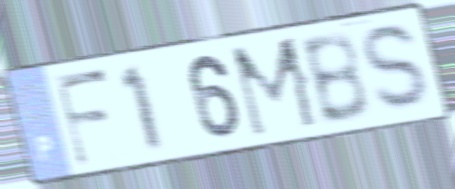1: (117, 63, 171, 156)
6: (187, 52, 244, 143)
B: (296, 28, 373, 129)
F: (50, 66, 115, 171)
M: (226, 33, 324, 143)
S: (358, 21, 439, 116)
